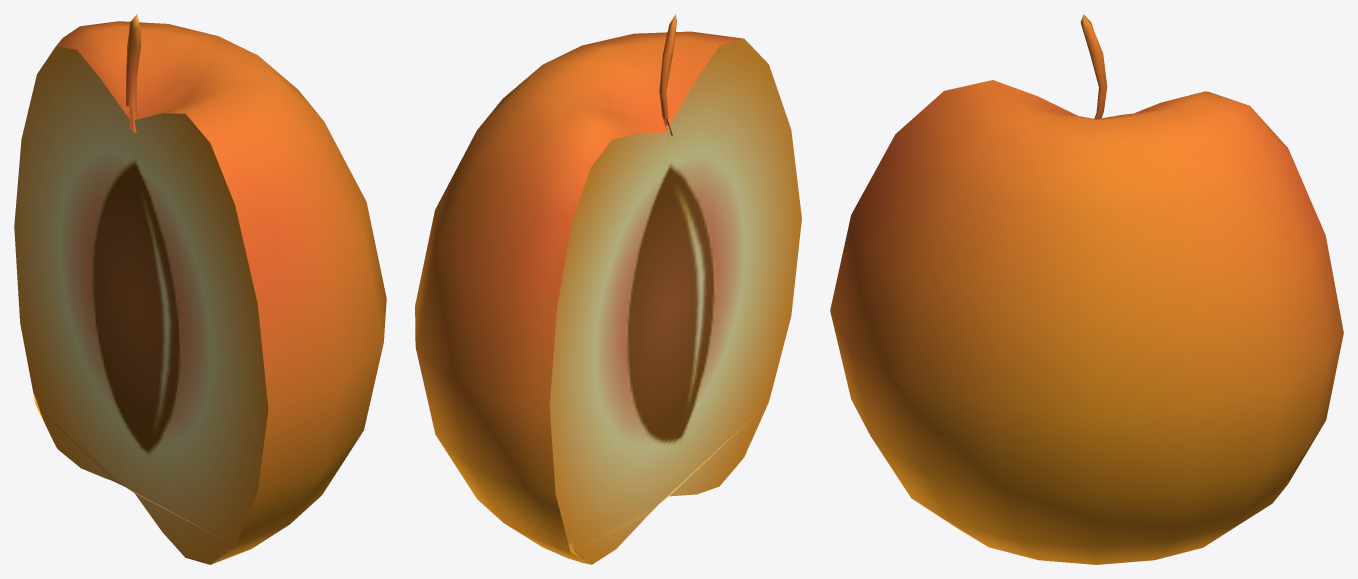
The model's file is ApricotSMesh.FBX.
The picture shows the model from 3 angles, left to right: view 1: azimuth 30°, elevation 25°; view 2: azimuth 150°, elevation 25°; view 3: azimuth 270°, elevation 25°; orthographic projection.
Parts seen in each view (by area): view 1: Apricot001.001; view 2: Apricot001.001; view 3: Apricot001.001.
Part boxes in pixels (x1,y1,x2,y2): Apricot001.001: [14, 14, 386, 564]; Apricot001.001: [415, 14, 801, 564]; Apricot001.001: [830, 14, 1343, 564].
Bounding box in the file's own units: 5.26 × 11.44 × 10.61.
